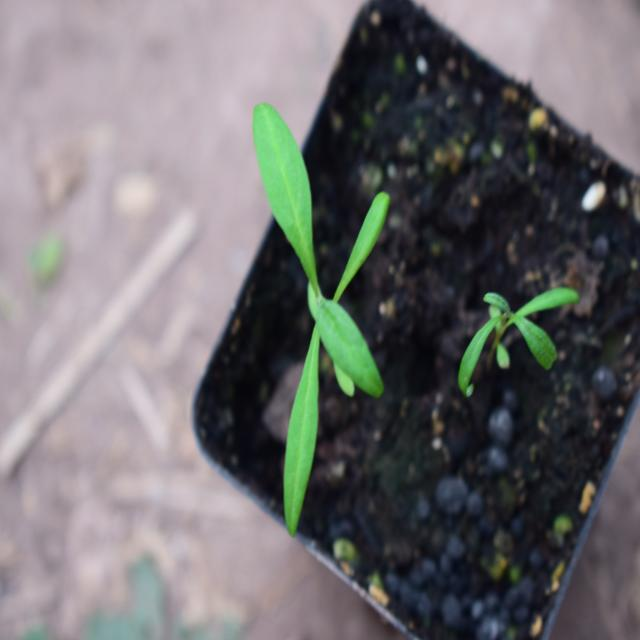white_smart_weed: (235, 84, 403, 546)
